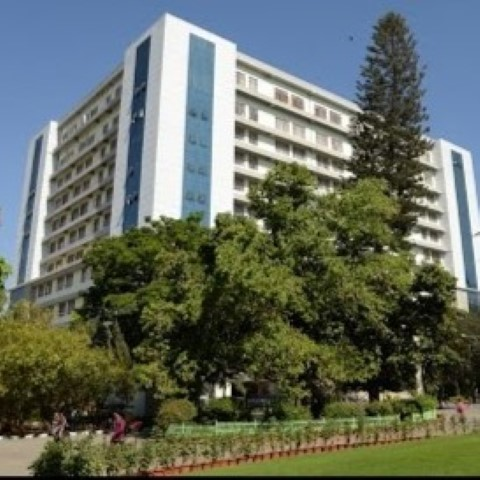Central Block: (21, 32, 480, 302)
